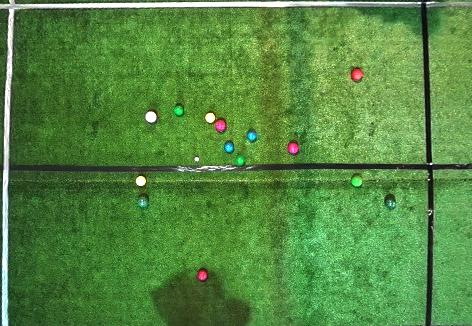blue: (223, 141, 235, 154), (246, 129, 258, 142)
green: (137, 196, 149, 208), (351, 175, 362, 187), (385, 198, 396, 210), (174, 105, 184, 117), (235, 155, 245, 166)
red: (350, 69, 363, 82), (287, 141, 299, 155), (145, 111, 157, 123), (215, 119, 226, 132), (197, 270, 208, 282)
vline: (421, 0, 471, 325), (0, 0, 18, 325)
white: (194, 157, 199, 162)
yellow: (205, 112, 215, 123), (136, 176, 146, 186)
